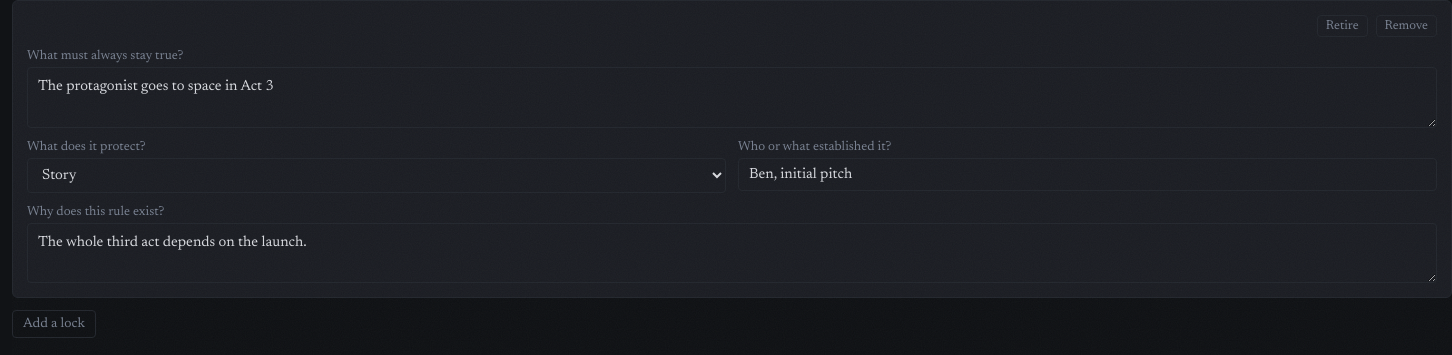
Test: StoryBibleLocksEditor › cancel disarms the remove confirmation without deleting
This screenshot has width=1452, height=355.
Click the button "Remove".
click(1406, 26)  # box [1376,15,1437,37]
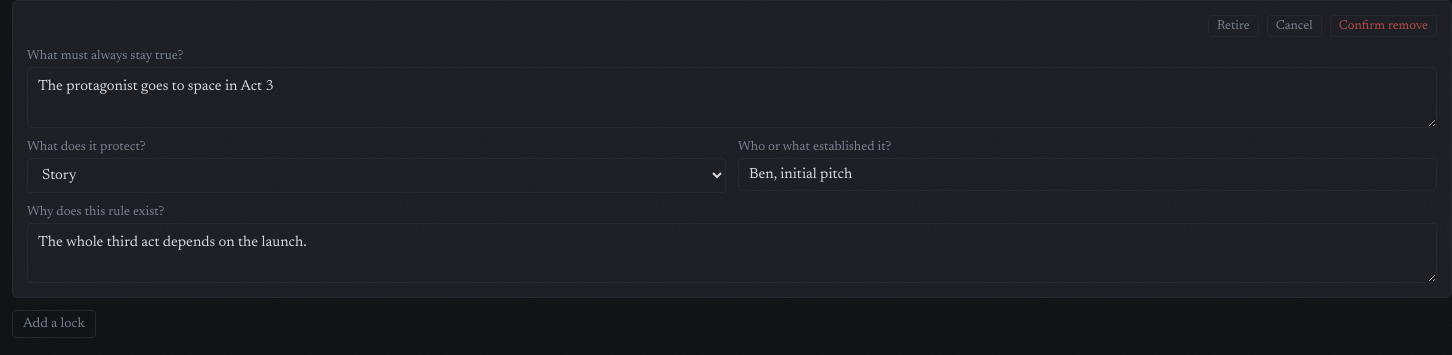
Click the button "Cancel".
click(1294, 26)  # box [1267,15,1322,37]
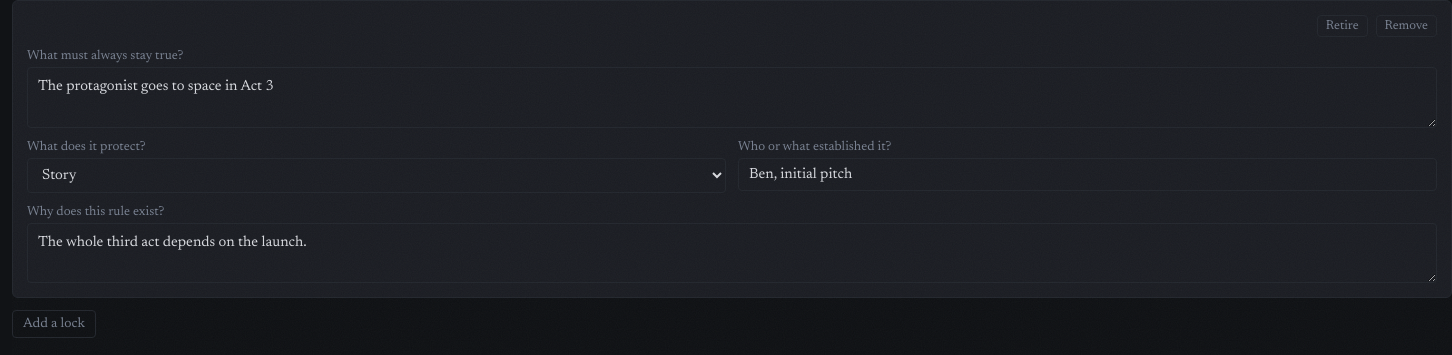
Expected: the button "Remove" is shown, [1376,15,1437,37]
Result: the button "Confirm remove" is gone
